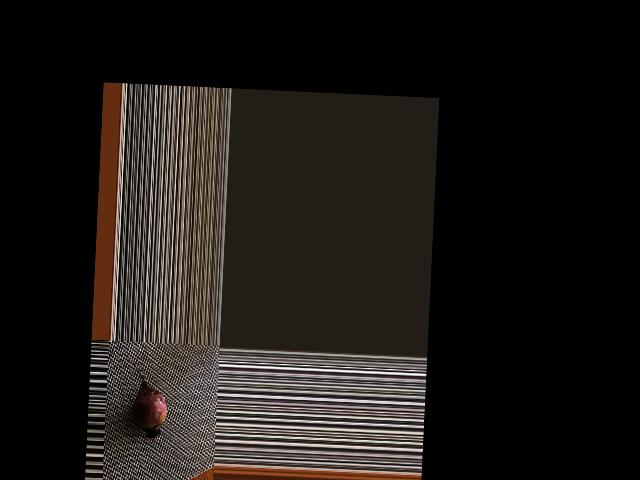beet: (117, 351, 168, 441)
